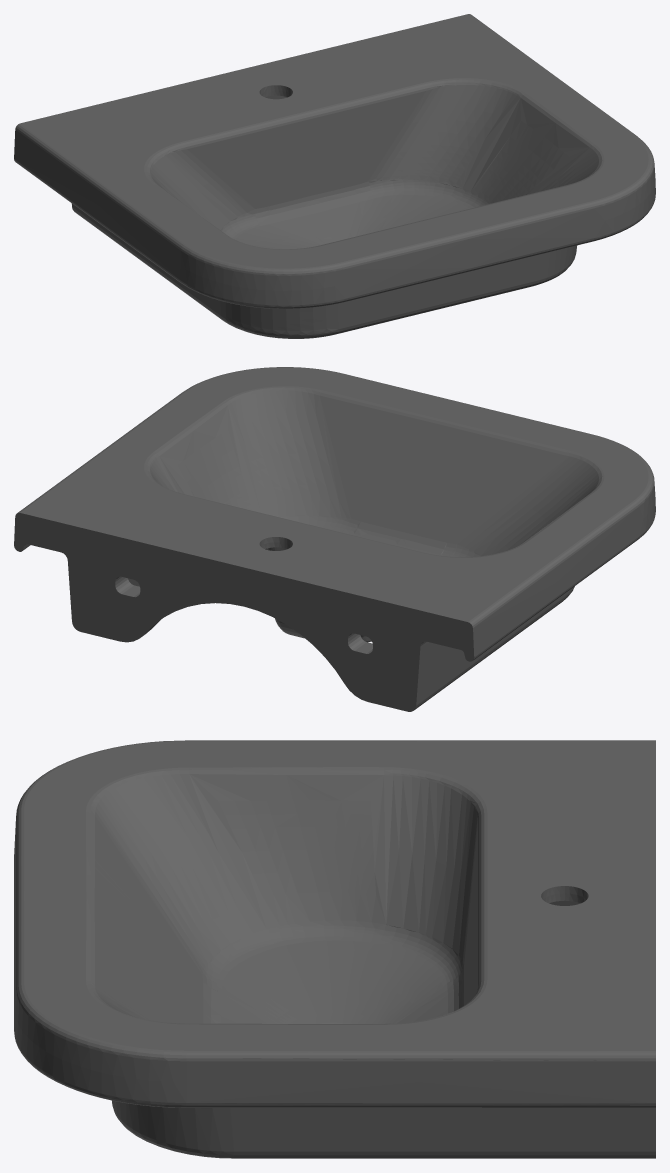
File: AEC_64368.glb
3 renders of one model, top to bottom at view 1: azimuth 30°, elevation 25°; view 2: azimuth 150°, elevation 25°; view 3: azimuth 270°, elevation 25°, orthographic. The views are drawn at different scales.
Parts seen in each view (by area): view 1: 0; view 2: 0; view 3: 0.
Boxes of the visible parts, x1=… form: 0: x1=14, y1=14, x2=655, y2=338; 0: x1=14, y1=367, x2=655, y2=711; 0: x1=14, y1=740, x2=655, y2=1158.
Size of the model in its own units: 0.5539 by 0.1664 by 0.472.
Materials: 1 (1 with a texture image).
